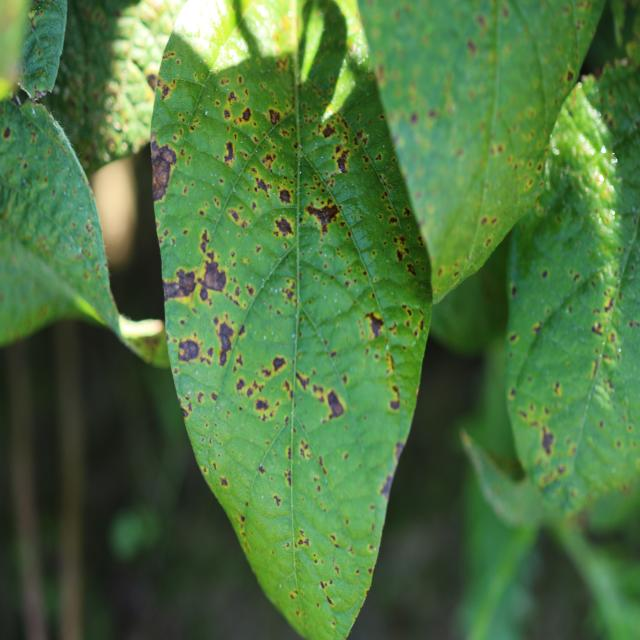Bacterial_Blight: (147, 137, 179, 206), (306, 376, 345, 422), (212, 316, 240, 369), (304, 194, 343, 232), (165, 267, 197, 301), (257, 355, 289, 382), (201, 260, 226, 293), (365, 311, 385, 340), (178, 338, 200, 362), (333, 144, 351, 173), (274, 216, 294, 237), (379, 470, 395, 496), (541, 426, 555, 455), (259, 152, 278, 173), (254, 176, 272, 197), (388, 384, 401, 410), (158, 81, 173, 101), (223, 140, 235, 164), (296, 370, 310, 390), (602, 296, 616, 314), (272, 356, 286, 373), (322, 122, 336, 138), (268, 108, 281, 125), (278, 189, 292, 204), (255, 398, 269, 412), (241, 107, 252, 122), (406, 262, 416, 277), (396, 248, 404, 262)
Soybean: (150, 0, 434, 640)
